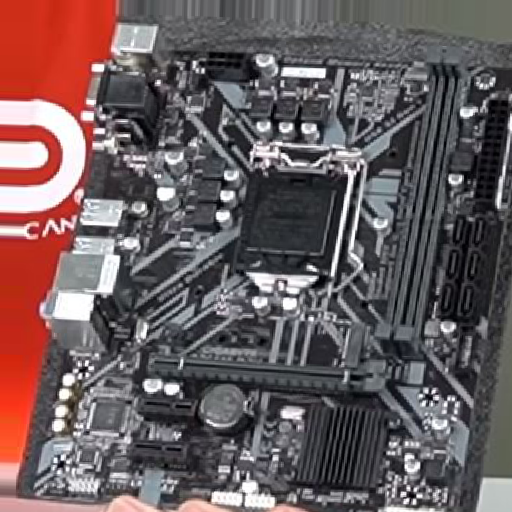CPU: (234, 139, 366, 301)
GPU: (145, 352, 386, 395)
MOTHERBOARD: (13, 23, 511, 507)
RAM: (374, 46, 468, 359)
SSD: (339, 322, 371, 368)
